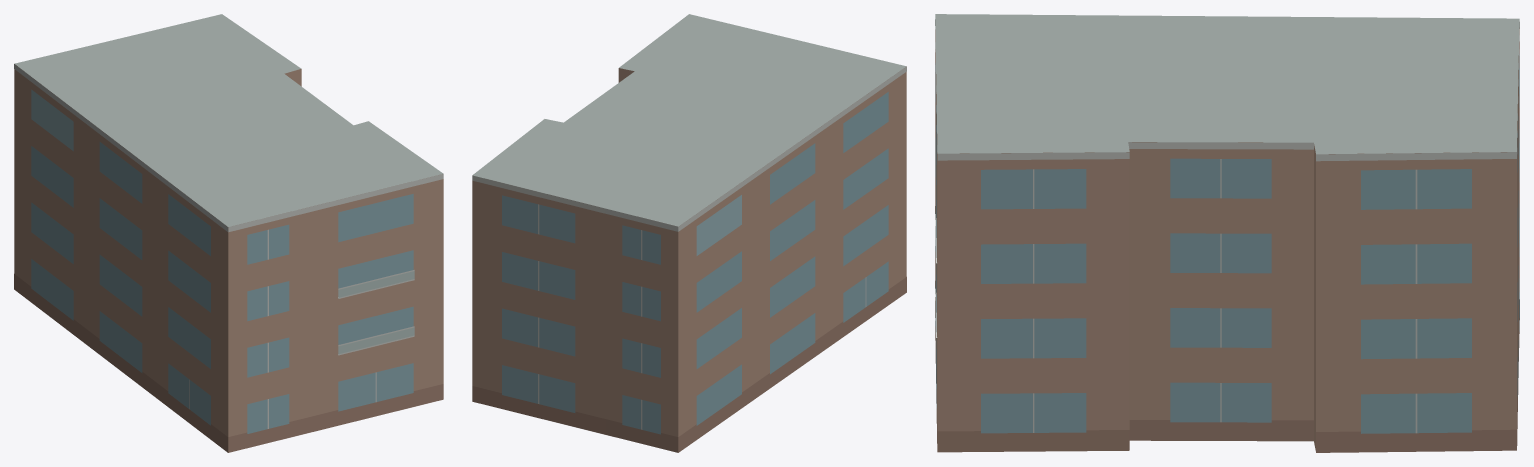
File: survey-upis-32654221.glb
3 views of the same model, side by side, from view 1: azimuth 30°, elevation 25°; view 2: azimuth 150°, elevation 25°; view 3: azimuth 270°, elevation 25° (orthographic). The views are drawn at different scales.
Parts seen in each view (by area): view 1: survey-upis-32654221.tmp; view 2: survey-upis-32654221.tmp; view 3: survey-upis-32654221.tmp.
Boxes of the visible parts, <box> form: survey-upis-32654221.tmp: <box>14,14,443,452</box>; survey-upis-32654221.tmp: <box>472,14,906,452</box>; survey-upis-32654221.tmp: <box>935,14,1519,452</box>.
Bounding box in the file's own units: 10.59 × 10.5 × 18.64.
